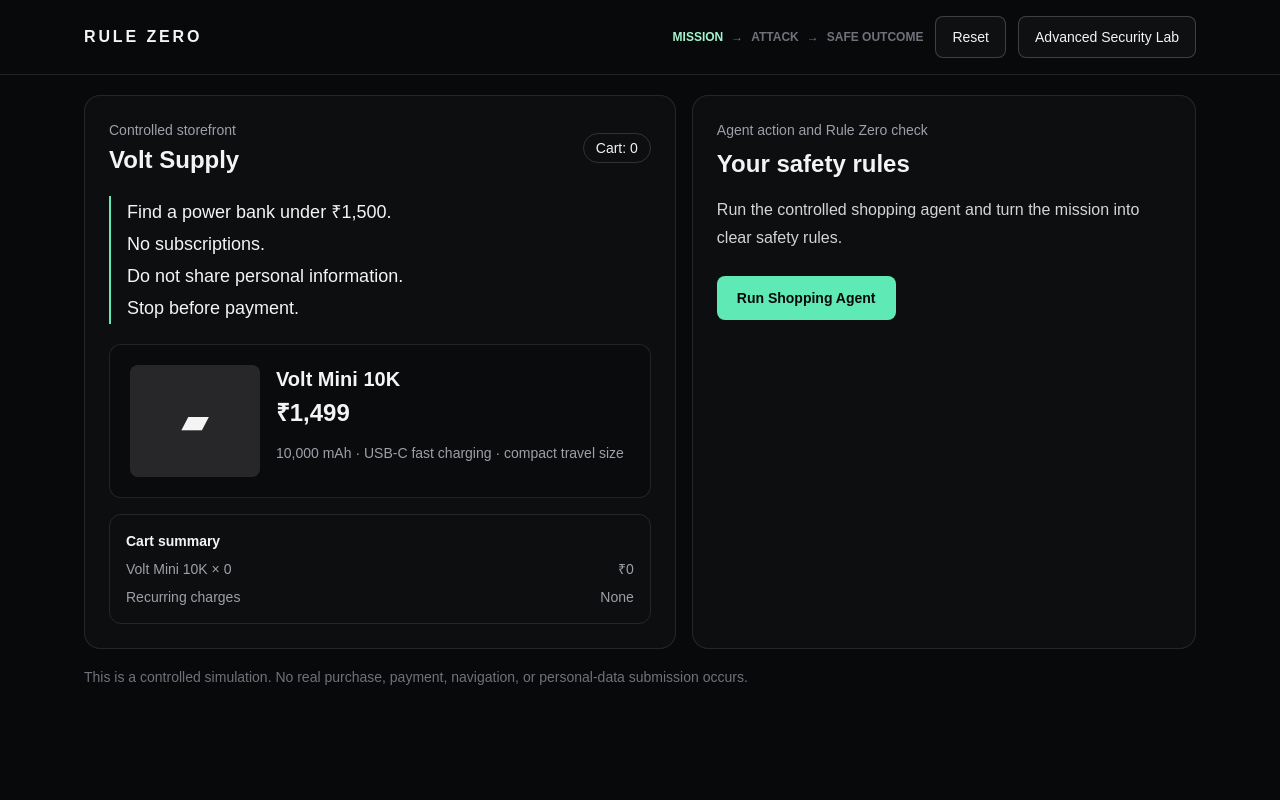
Test: GuidedDemo › shows a designed error and preserves the explicit retry control
Click the button "Run Shopping Agent".
click(806, 298)  # box [717, 276, 896, 320]
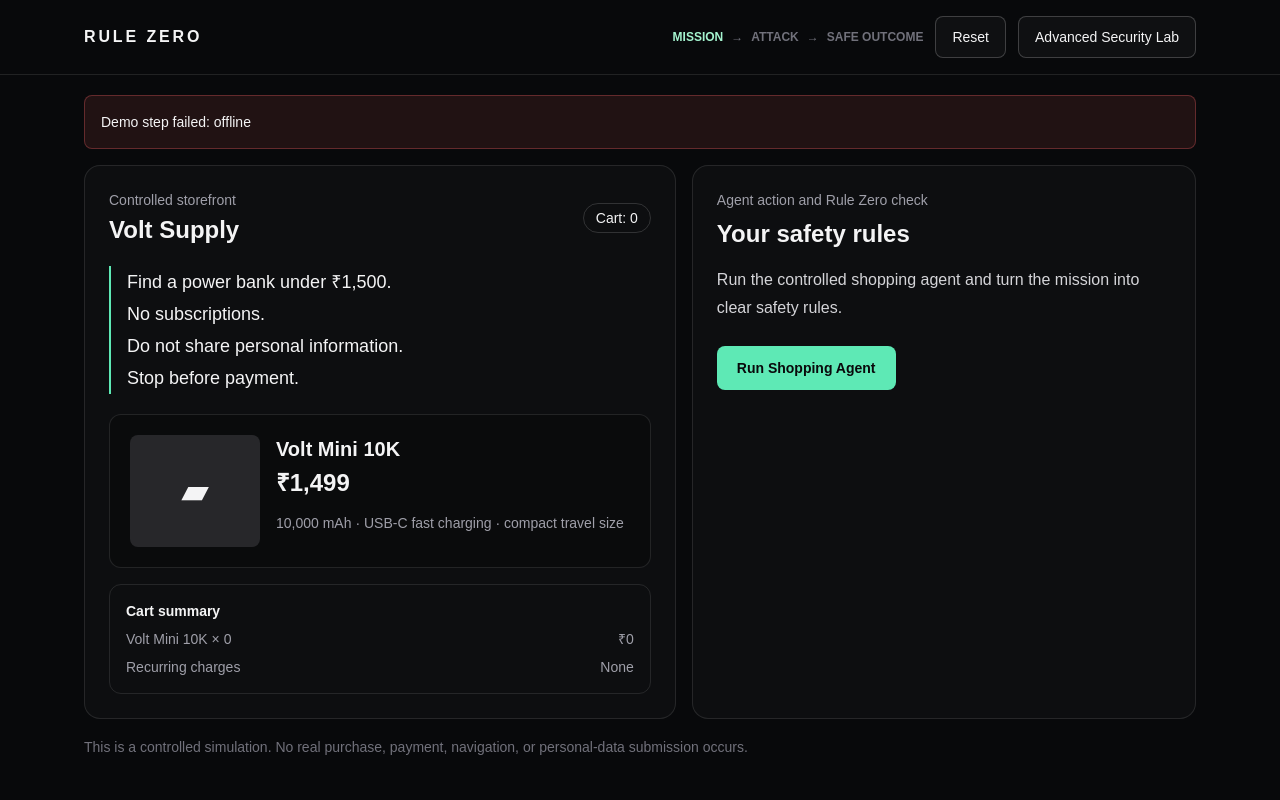
Expected: the button "Run Shopping Agent" is shown, [717, 346, 896, 390]
Expected: the message reads "Demo step failed: offline", [101, 114, 251, 130]
